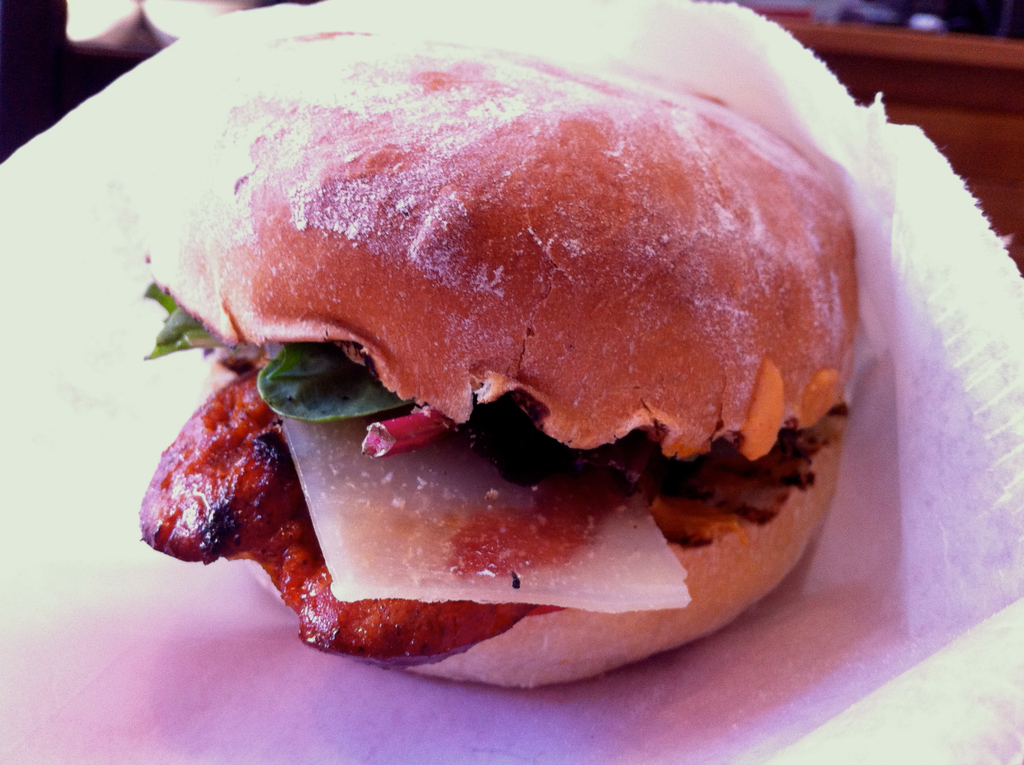Hamburger: (133, 28, 856, 692)
